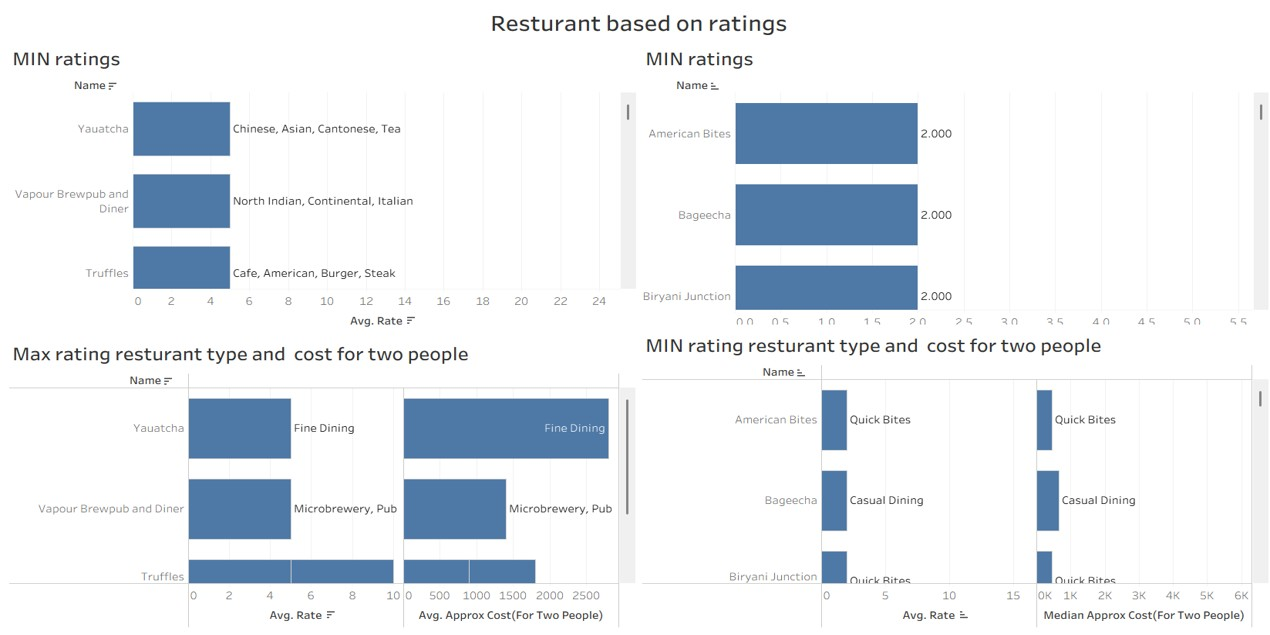

Layout of this report page (visuals, bound fields, positions):
{"tool":"tableau","page":{"name":"Resturant based on ratings ","canvas":[1000,1000],"units":"permille","ordinal":0},"visuals":[{"type":"title","box":[4.8,8.8,990.4,58.2]},{"type":"worksheet","title":"max ratings","mark":"Automatic","rows":["name"],"cols":["rate"],"box":[4.8,67,495.2,462.1]},{"type":"worksheet","title":"Min ratings","mark":"Automatic","rows":["name"],"cols":["rate"],"box":[500,67,495.2,449.3]},{"type":"worksheet","title":"Min rating resturant type and  cost for two people (2)","mark":"Automatic","rows":["name"],"cols":["rate","approx_cost(for two people)"],"box":[500,516.2,495.2,475]},{"type":"worksheet","title":"Max rating resturant type and  cost for two people ","mark":"Automatic","rows":["name"],"cols":["rate","approx_cost(for two people)"],"box":[4.8,529.1,495.2,462.2]}]}

Visuals, with their boxes on the dashboard's canvas, which has no fixed pixel size, in thousandths of its width and height (x1, y1, x2, y2). These are canvas units, not pixel positions in the 1270x635 screenshot, which may show the page scaled, cropped or inside an application window:
title: box(5, 9, 995, 67)
"max ratings" worksheet: box(5, 67, 500, 529)
"Min ratings" worksheet: box(500, 67, 995, 516)
"Min rating resturant type and  cost for two people (2)" worksheet: box(500, 516, 995, 991)
"Max rating resturant type and  cost for two people " worksheet: box(5, 529, 500, 991)
